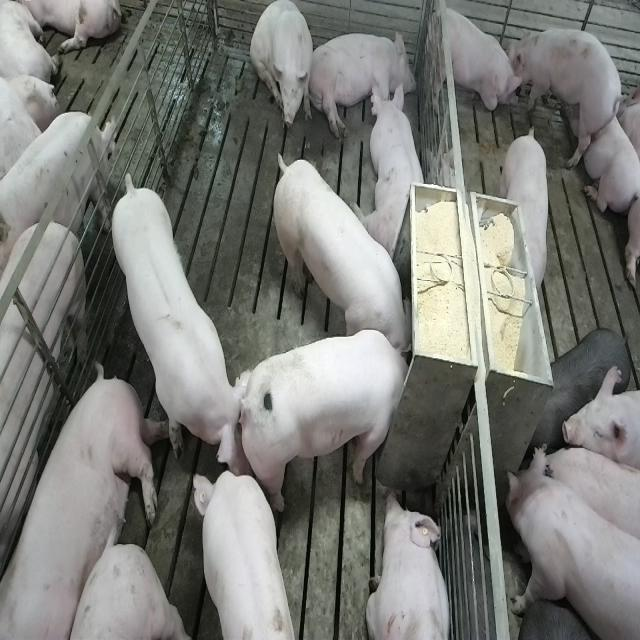Feeding: (247, 329, 419, 514), (268, 144, 411, 358)
Lateral_lying: (3, 364, 167, 640), (307, 28, 417, 140)
Sitting: (422, 0, 518, 122), (250, 2, 315, 136)
Standing: (110, 164, 253, 474), (0, 216, 88, 598), (504, 448, 638, 640), (0, 103, 114, 262), (195, 471, 300, 640), (509, 25, 622, 164), (527, 323, 631, 454), (504, 122, 554, 298), (565, 366, 640, 472)
Sternal_lying: (366, 489, 453, 640), (364, 81, 428, 263), (562, 85, 638, 213)
